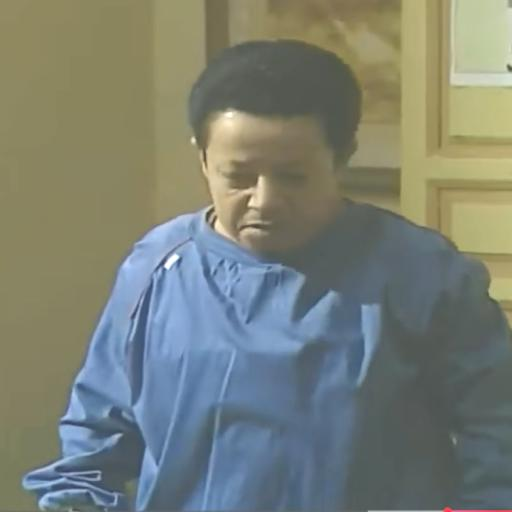fouchika: (188, 40, 360, 257)
